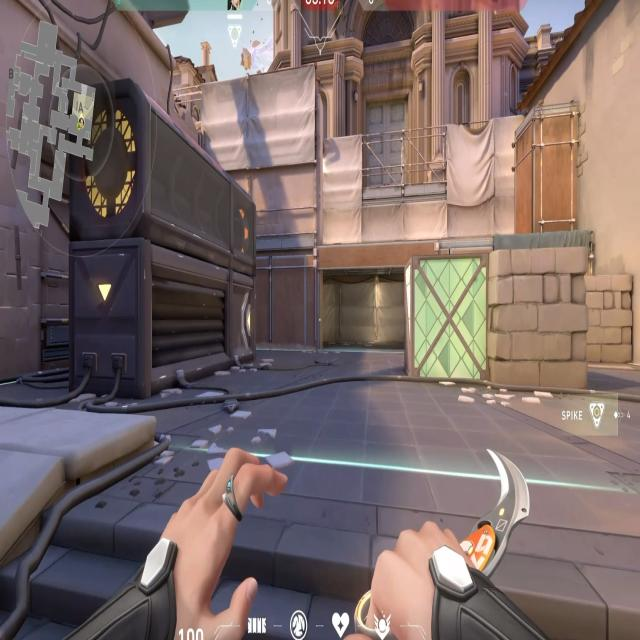A_Heaven_Box: (510, 90, 591, 239)
A_Heaven_Wall: (186, 76, 328, 246)
A_Hell: (301, 244, 459, 368)
A_Site_Box: (406, 262, 590, 391)
